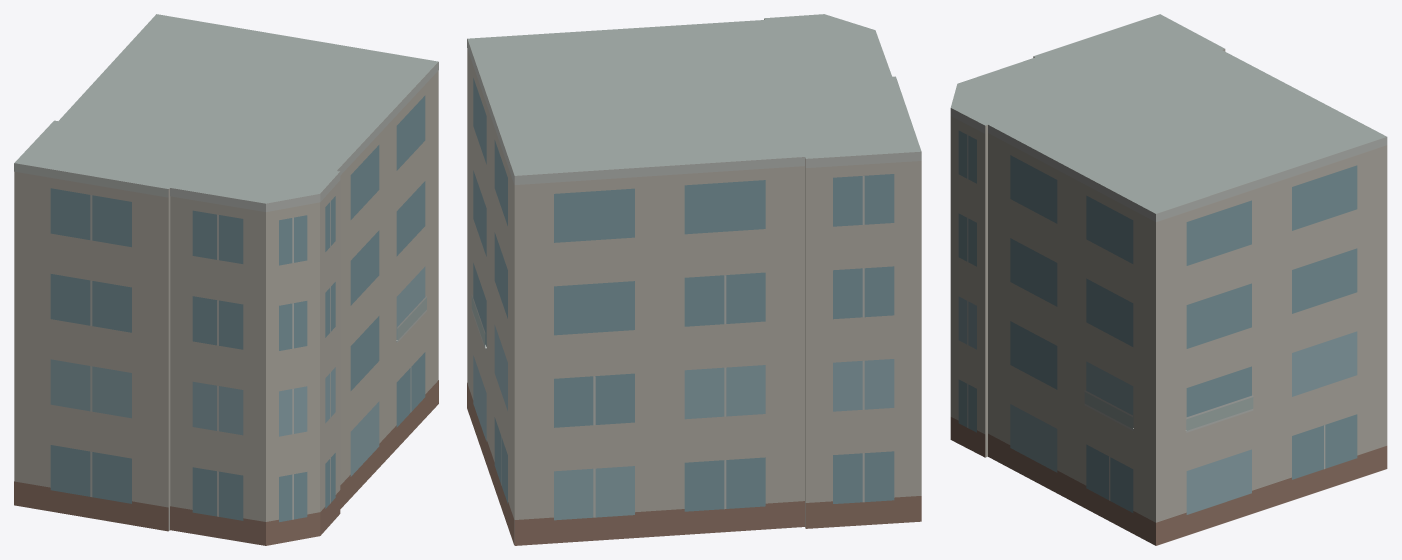
Rendered from survey-upis-32931333.glb.
The picture shows the model from 3 angles, left to right: view 1: azimuth 30°, elevation 25°; view 2: azimuth 150°, elevation 25°; view 3: azimuth 270°, elevation 25°; orthographic projection. The views are drawn at different scales.
Visible parts, largest first — view 1: survey-upis-32931333.tmp; view 2: survey-upis-32931333.tmp; view 3: survey-upis-32931333.tmp.
Part boxes in pixels (x1,y1,x2,y2): survey-upis-32931333.tmp: (14, 14, 438, 545); survey-upis-32931333.tmp: (467, 14, 921, 545); survey-upis-32931333.tmp: (950, 14, 1387, 545).
Bounding box in the file's own units: 12.66 × 9.79 × 11.68.
